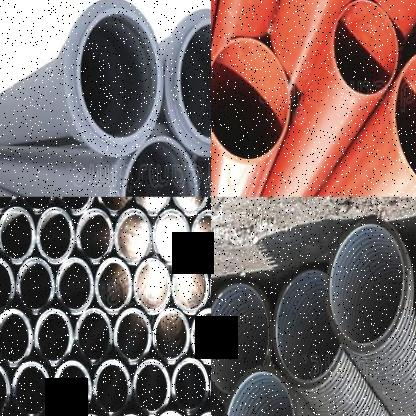pipe: (65, 0, 163, 157), (326, 218, 409, 355), (211, 38, 290, 161), (273, 266, 345, 389), (211, 278, 272, 399), (165, 7, 211, 157), (110, 124, 200, 197), (332, 0, 398, 95), (222, 365, 299, 416), (394, 47, 416, 195), (52, 360, 92, 416), (12, 361, 52, 416), (74, 308, 113, 364), (16, 258, 55, 314), (36, 207, 74, 264), (35, 308, 72, 366), (93, 360, 131, 416), (56, 258, 94, 314), (94, 258, 132, 314), (76, 209, 114, 265), (172, 358, 209, 415), (153, 308, 190, 365), (133, 360, 170, 416), (134, 259, 171, 315), (172, 258, 209, 314), (153, 209, 190, 264), (0, 206, 35, 264), (115, 308, 151, 364), (116, 211, 152, 265), (0, 309, 33, 367), (190, 209, 211, 264), (191, 308, 211, 364), (0, 258, 14, 314), (57, 197, 95, 215), (96, 197, 132, 215), (135, 197, 171, 215), (171, 197, 209, 214), (18, 197, 56, 214), (0, 362, 10, 416)
